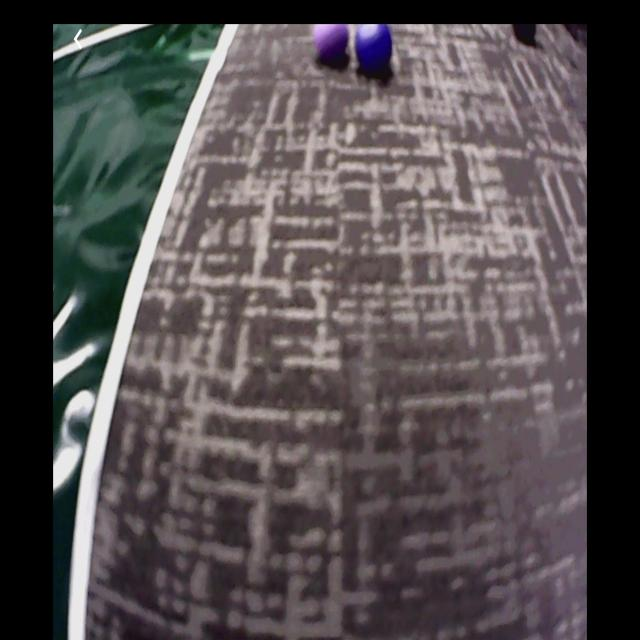ball: (356, 25, 394, 78), (314, 26, 352, 69)
